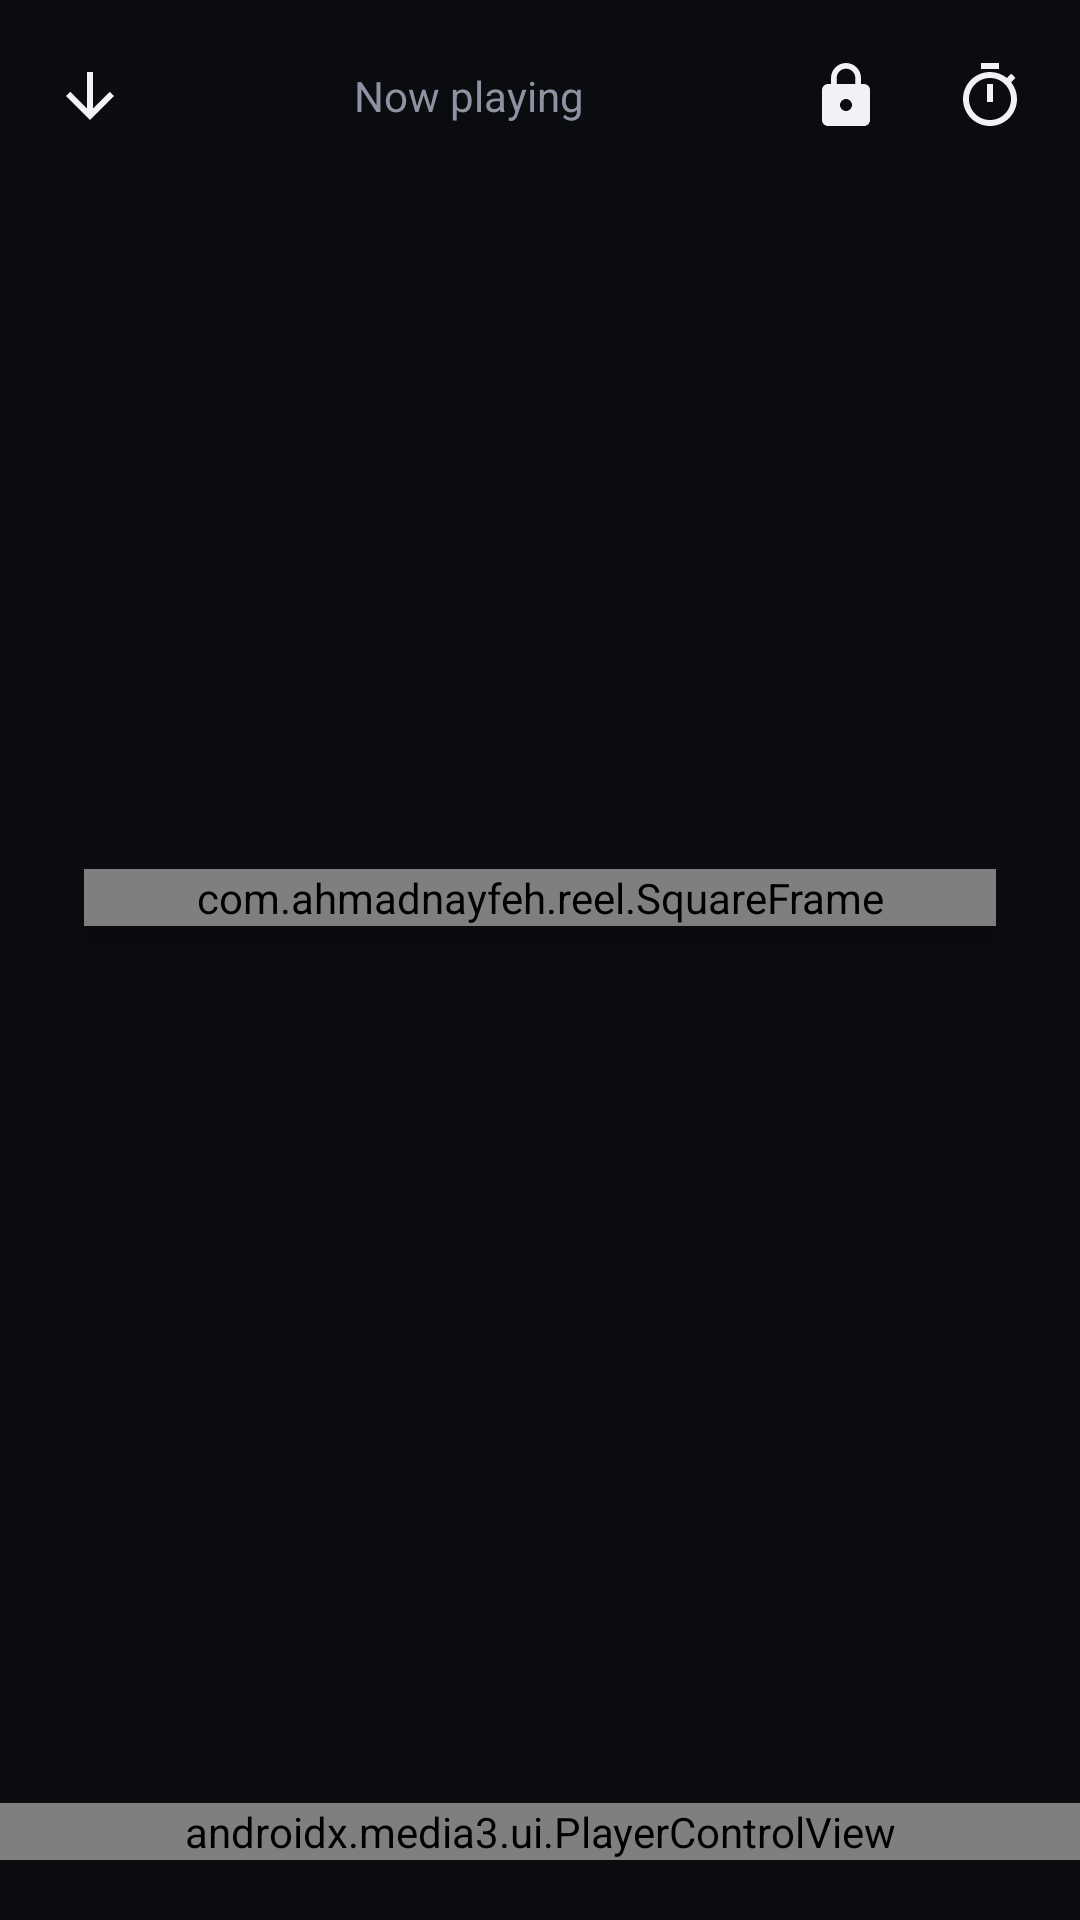

Point at icon controls on the screen. Image size 1080w x 1920h, points as [x,y].
Lock-screen controls: [846,94]
Sleep timer: [990,94]
